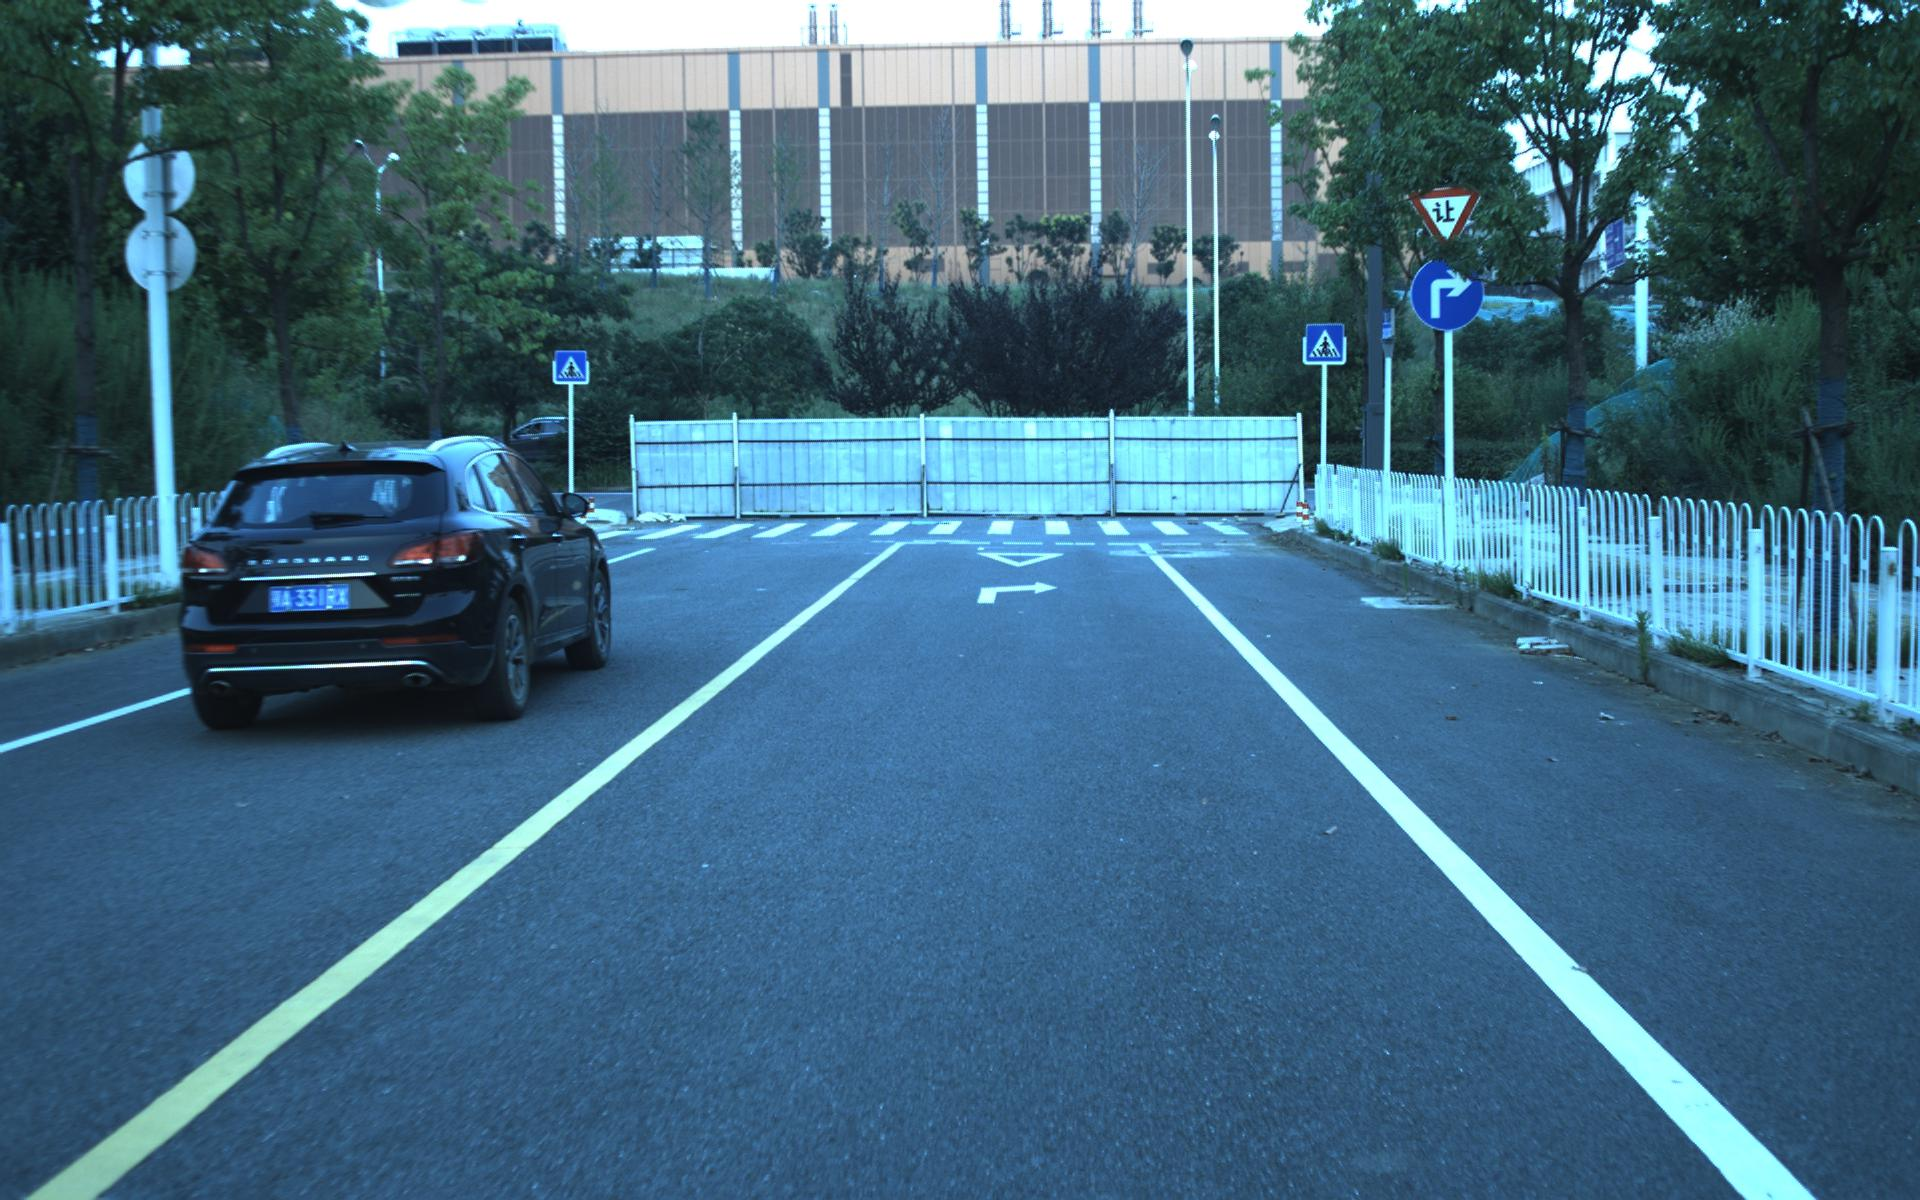Car: (164, 427, 622, 735)
